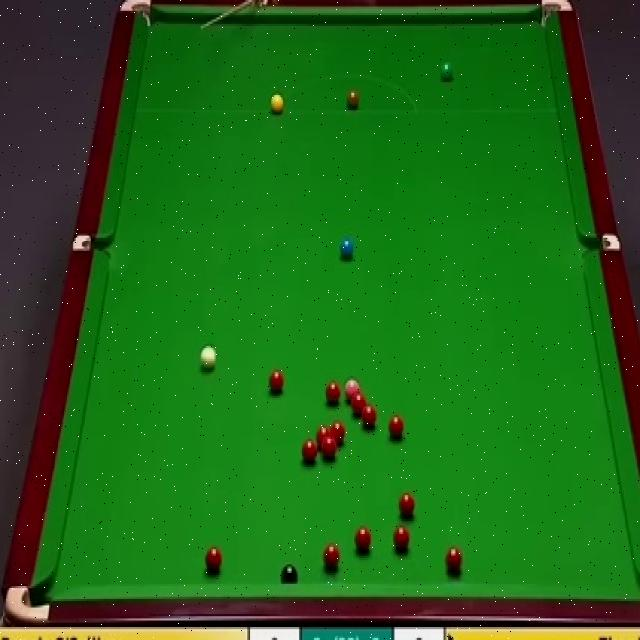black-ball: (282, 564, 302, 584)
blue-ball: (340, 239, 354, 257)
brown-ball: (346, 90, 361, 114)
green-ball: (440, 60, 454, 77)
pink-ball: (345, 378, 360, 399)
red-ball: (445, 544, 464, 573), (398, 491, 416, 521), (324, 540, 342, 567), (355, 523, 371, 553), (204, 546, 222, 572), (300, 439, 318, 465), (330, 421, 347, 448), (394, 526, 411, 550), (270, 369, 284, 395), (322, 438, 337, 460), (324, 381, 339, 402), (351, 392, 366, 413), (388, 417, 404, 436), (316, 428, 331, 448), (362, 407, 375, 430)
white-ball: (199, 344, 217, 370)
yellow-ball: (270, 93, 284, 115)
